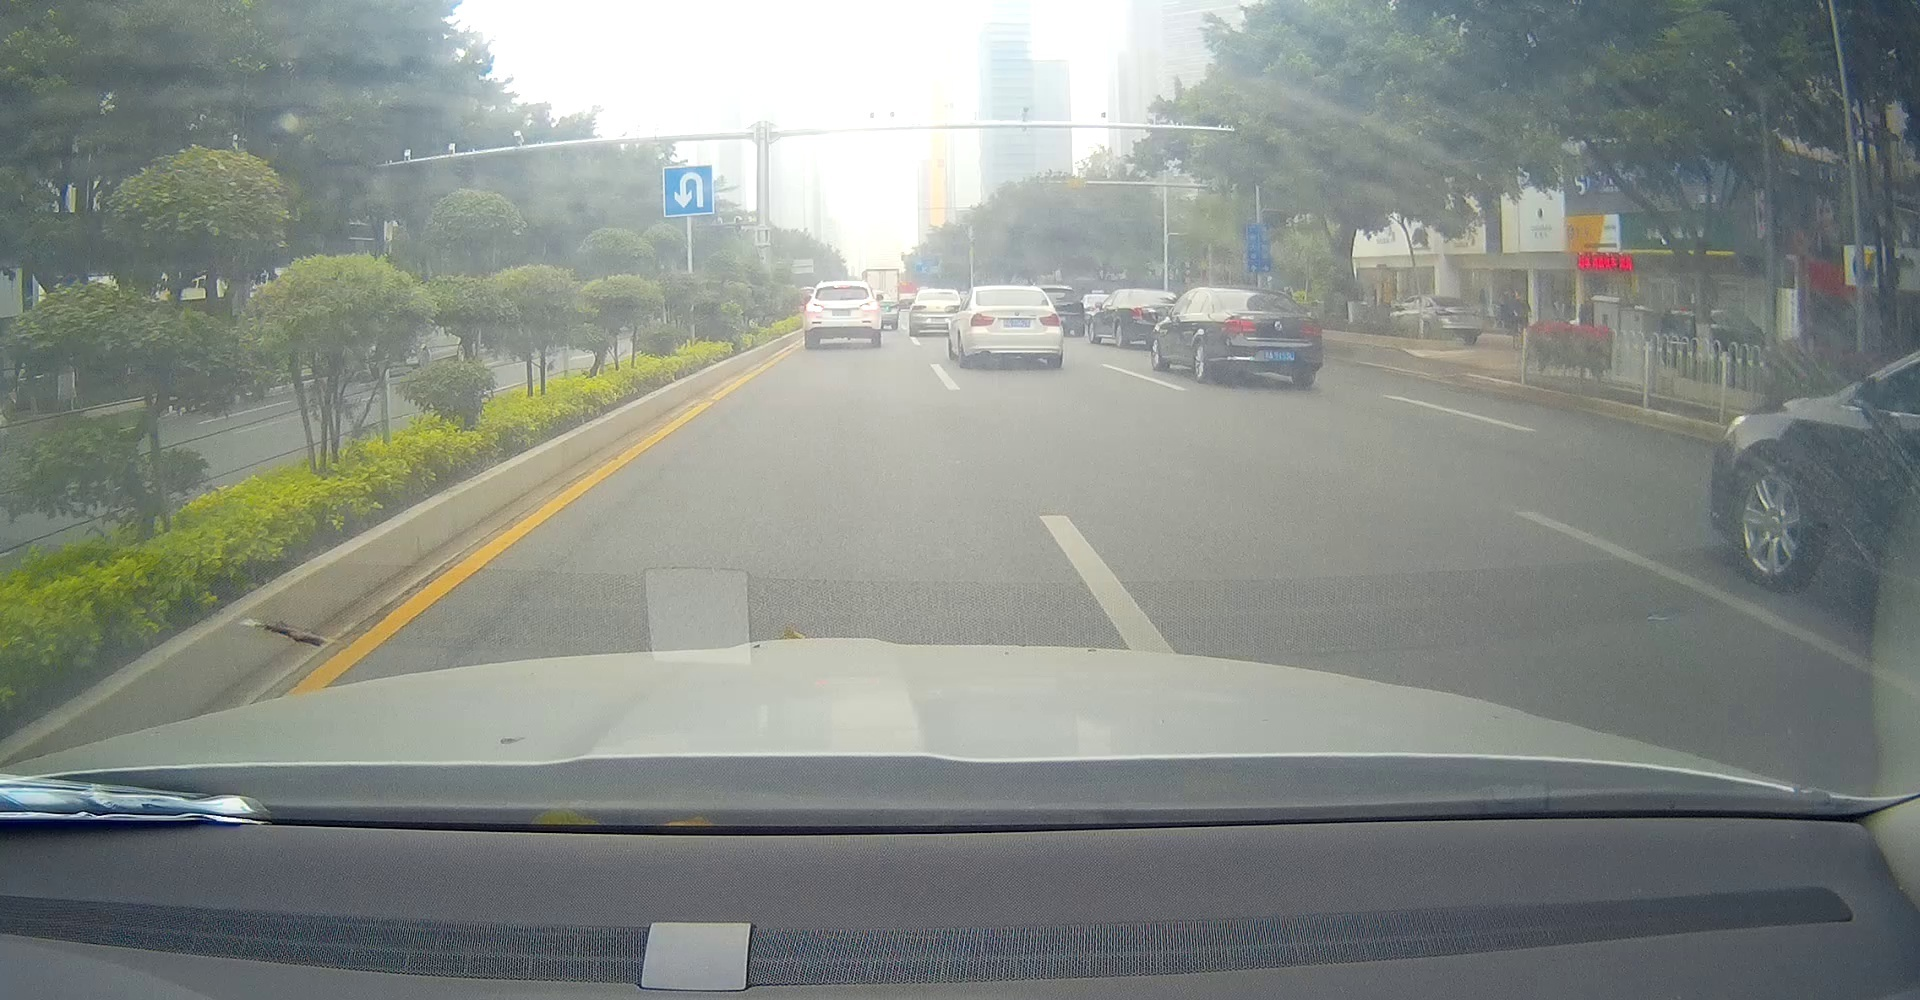L_light: (1225, 319, 1257, 332), (970, 313, 996, 327), (805, 301, 824, 312)
R_light: (1037, 313, 1060, 326), (1302, 321, 1321, 335), (858, 299, 877, 311)
T_light: (833, 282, 850, 289), (1244, 292, 1263, 296), (1004, 291, 1022, 294)
day-brake: (803, 279, 883, 350)
day-no: (1210, 287, 1323, 386), (966, 286, 1063, 367)
